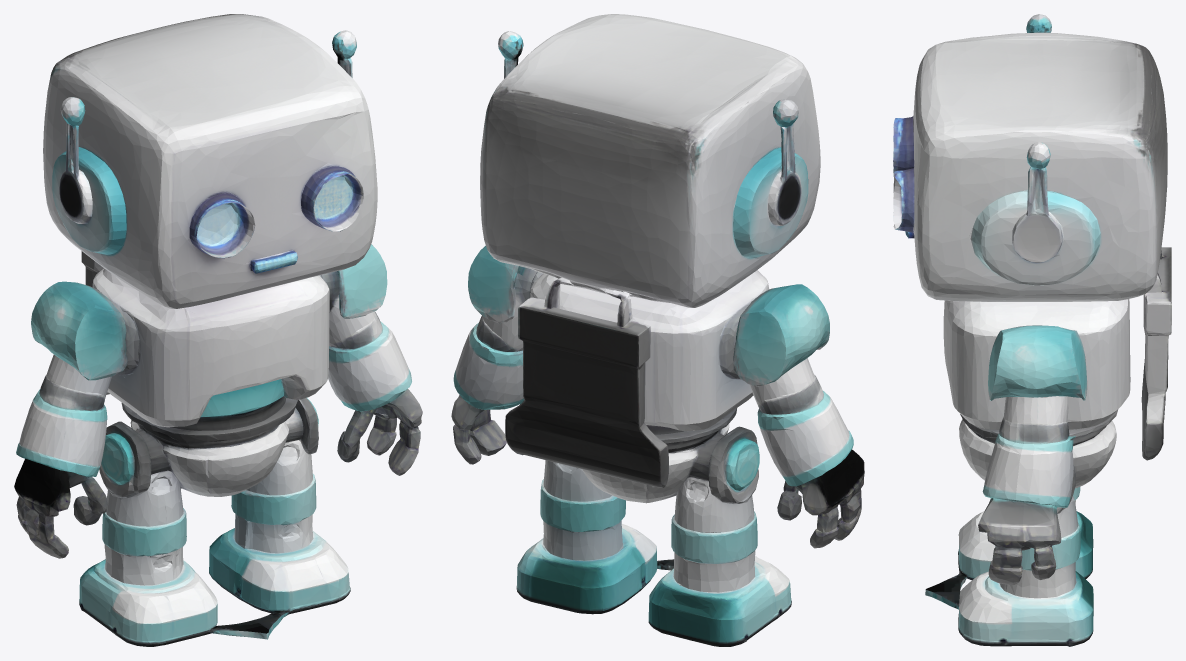
The model's file is player.glb.
The picture shows the model from 3 angles, left to right: view 1: azimuth 30°, elevation 25°; view 2: azimuth 150°, elevation 25°; view 3: azimuth 270°, elevation 25°; orthographic projection. The views are drawn at different scales.
Visible parts, largest first — view 1: world; view 2: world; view 3: world.
Part boxes in pixels (box(x1,y1,x2,y2)): world: box(14, 14, 422, 646); world: box(451, 14, 864, 646); world: box(893, 14, 1171, 646).
Bounding box in the file's own units: 0.7583 × 0.9968 × 0.4883.
1 material, 1 textured.
